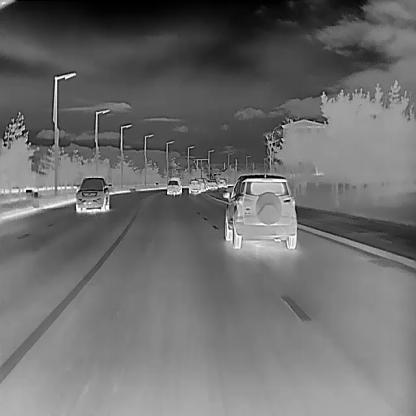car: (222, 173, 296, 249), (76, 176, 109, 212), (166, 179, 180, 194), (188, 178, 200, 192), (196, 177, 204, 191), (217, 177, 227, 188), (207, 178, 217, 188)
